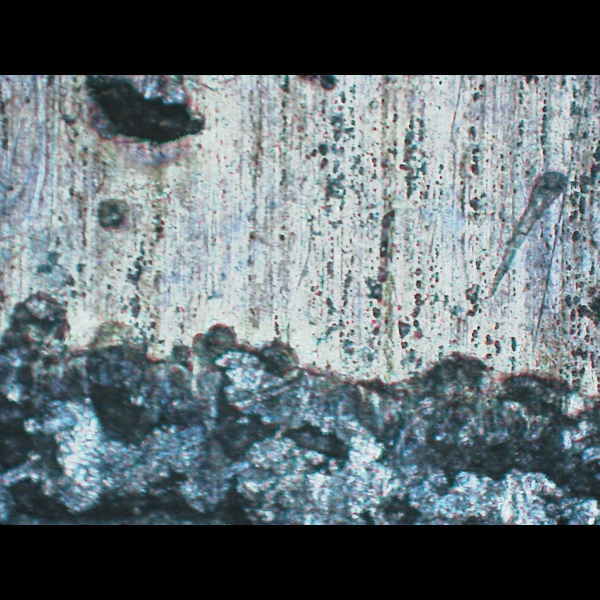d: (2, 280, 599, 524), (49, 75, 215, 156)
